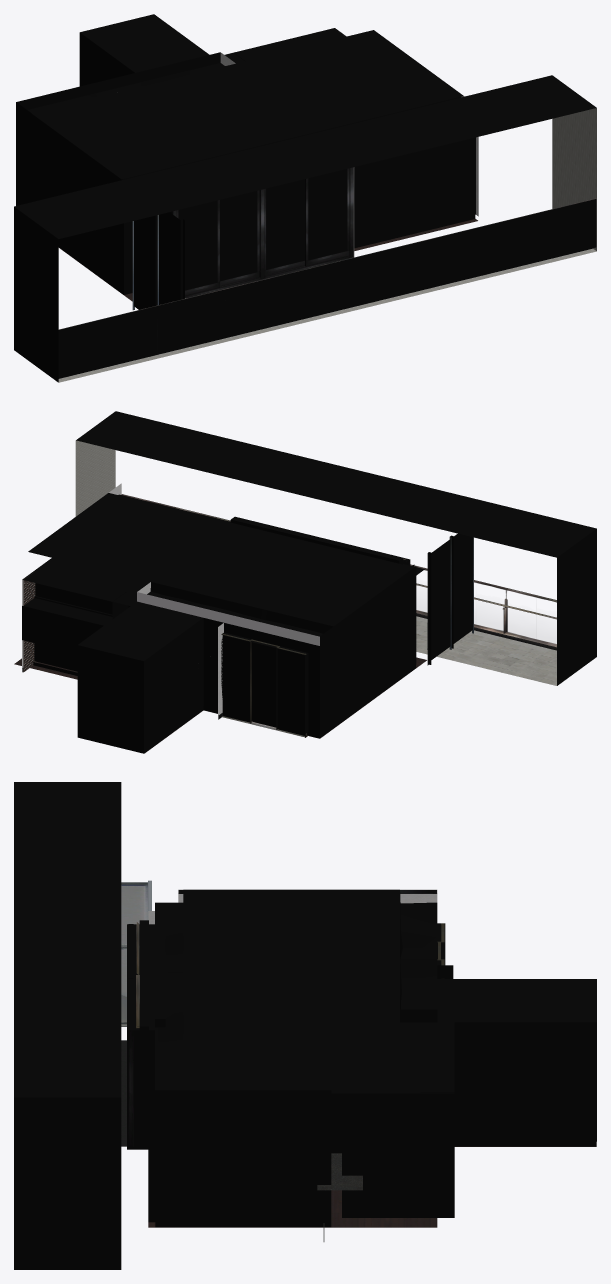
The model's file is House_Interior.gltf.
The picture shows the model from 3 angles, top to bottom: view 1: azimuth 30°, elevation 25°; view 2: azimuth 150°, elevation 25°; view 3: azimuth 270°, elevation 25°; orthographic projection. The views are drawn at different scales.
Parts seen in each view (by area): view 1: Material2.001, Material2, Material3.005, Material3.016, Material3.013, Material3.026; view 2: Material2.001, Material2, Material3.005, Material3.013, Material3.016, Material3.018, Material3.031, Material3.024, Material3.026; view 3: Material2.001, Material2, Material3.032, Material3.026, Material3.002, Material3.016, Material3.007.
Part boxes in pixels (x1,y1,x2,y2): Material2.001: (14,14,596,382); Material2: (16,32,596,378); Material3.005: (58,108,596,382); Material3.016: (59,167,596,354); Material3.013: (220,52,478,256); Material3.026: (59,219,477,301); Material2.001: (22,411,596,685); Material2: (77,516,416,753); Material3.005: (75,440,556,685); Material3.013: (22,483,319,715); Material3.016: (121,494,556,650); Material3.018: (417,570,556,644); Material3.031: (23,571,37,672); Material3.024: (221,633,308,737); Material3.026: (14,657,426,752); Material2.001: (14,782,596,1269); Material2: (127,892,596,1227); Material3.032: (121,880,151,1026); Material3.026: (148,1146,596,1227); Material3.002: (317,1153,362,1190); Material3.016: (128,978,133,1146); Material3.007: (121,1040,126,1146).
Size of the model in its own units: 7.35 by 1.87 by 5.74.
42 materials, 42 textured.
